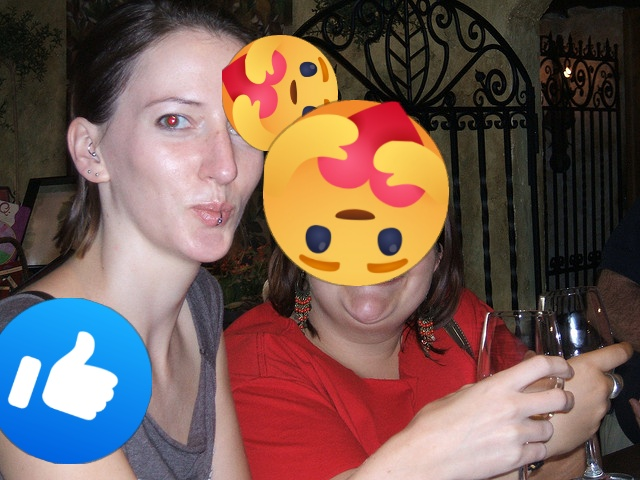care: (263, 100, 449, 286), (222, 35, 338, 151)
like: (0, 298, 152, 464)
